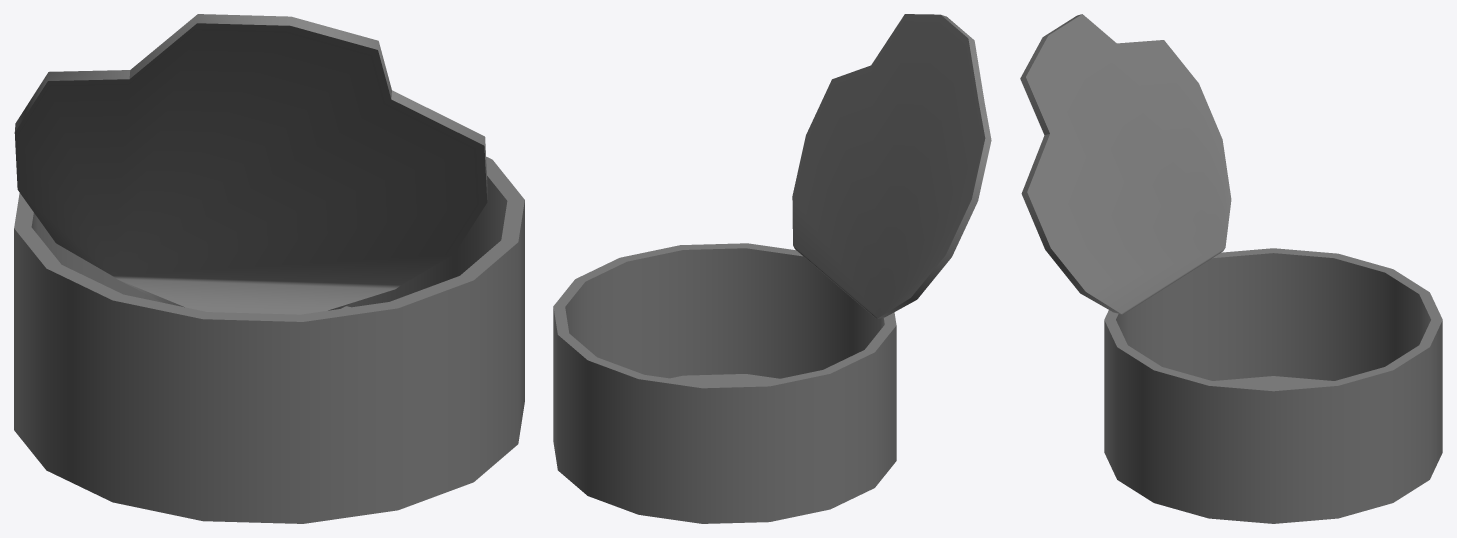
Rendered from Can3_1.fbx.
3 views of the same model, side by side, from view 1: azimuth 30°, elevation 25°; view 2: azimuth 150°, elevation 25°; view 3: azimuth 270°, elevation 25° (orthographic). The views are drawn at different scales.
Visible parts, largest first — view 1: Can3_1; view 2: Can3_1; view 3: Can3_1.
Boxes of the visible parts, x1,y1,x2,y2 form: Can3_1: [14, 14, 524, 523]; Can3_1: [553, 14, 991, 523]; Can3_1: [1020, 14, 1442, 523].
Size of the model in its own units: 0.1294 by 0.1288 by 0.1337.
